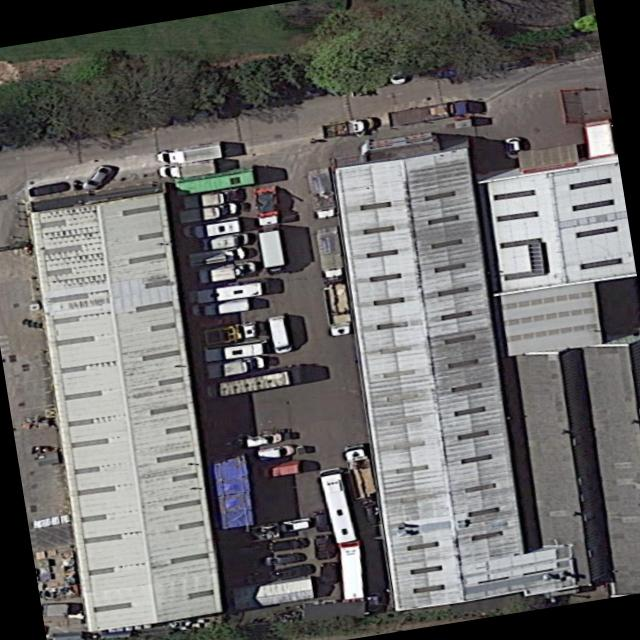large-vehicle: (319, 466, 357, 543), (389, 98, 474, 127), (341, 442, 376, 500), (320, 280, 353, 337), (314, 225, 346, 281), (336, 539, 365, 600), (155, 140, 223, 165), (305, 166, 337, 219), (200, 319, 260, 347), (176, 198, 241, 223), (180, 214, 242, 240), (202, 353, 265, 378), (196, 258, 257, 283), (178, 186, 241, 209), (155, 157, 215, 180), (320, 114, 375, 139), (186, 245, 248, 267), (257, 228, 286, 273), (192, 297, 249, 317), (266, 313, 293, 354), (255, 184, 279, 229), (197, 232, 250, 250)
small-vehicle: (81, 163, 114, 191), (275, 560, 315, 581), (196, 311, 239, 330), (27, 179, 70, 197), (260, 459, 300, 478), (267, 535, 306, 553), (257, 442, 296, 460), (264, 550, 304, 566), (278, 515, 312, 533), (226, 571, 262, 587), (487, 57, 526, 71), (312, 533, 332, 560), (246, 431, 282, 446), (310, 509, 332, 532), (362, 590, 383, 612), (504, 136, 524, 158), (320, 560, 338, 584)
